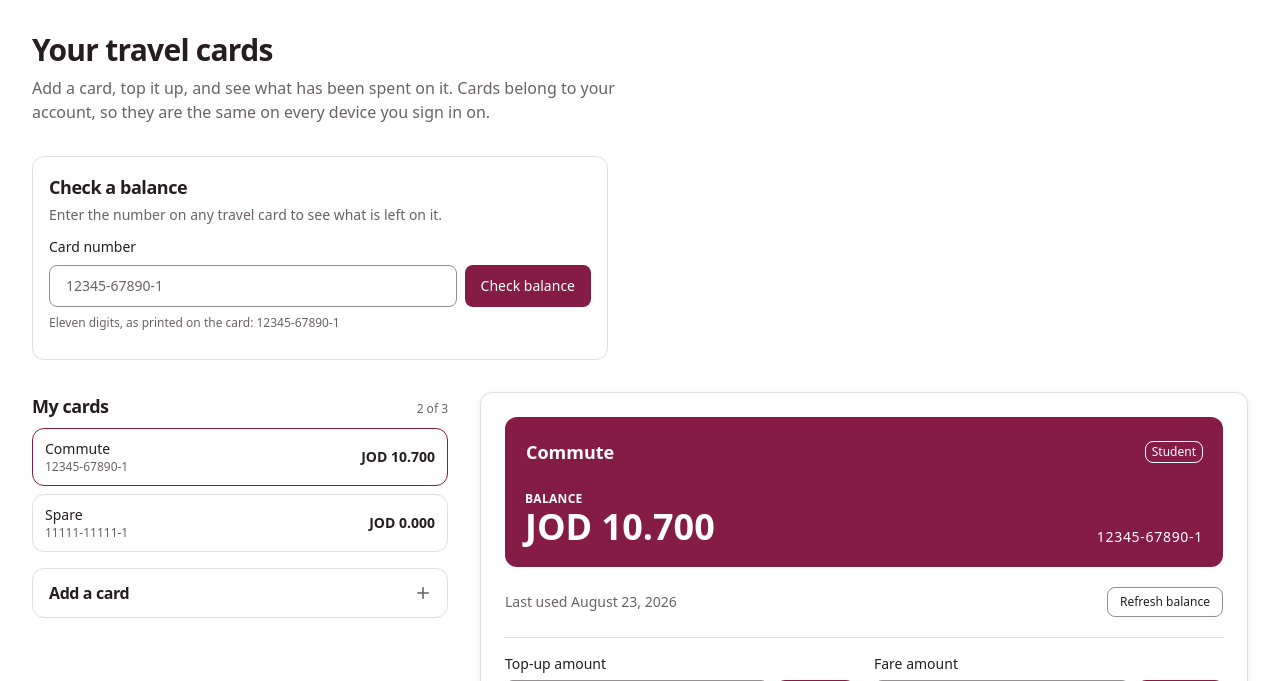
Test: the wallet › shows the card somebody picks instead
The width and height of the screenshot is (1280, 681).
Click the button "Spare 11111-11111-1 JOD 0.000": (64, 514) [32,494,448,552]
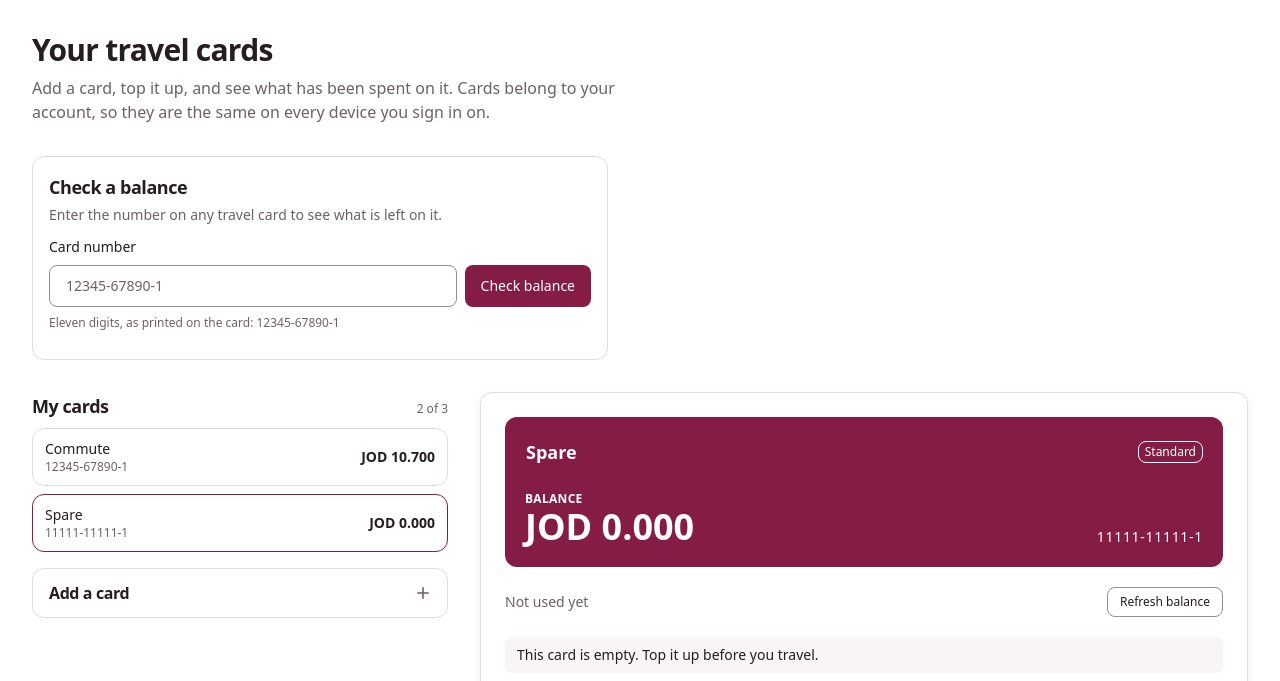
Now the text "This card is empty. Top it up before you travel." is shown, box [505,637,1223,673]
Now the text "Not used yet" is shown, box [505,592,588,612]
